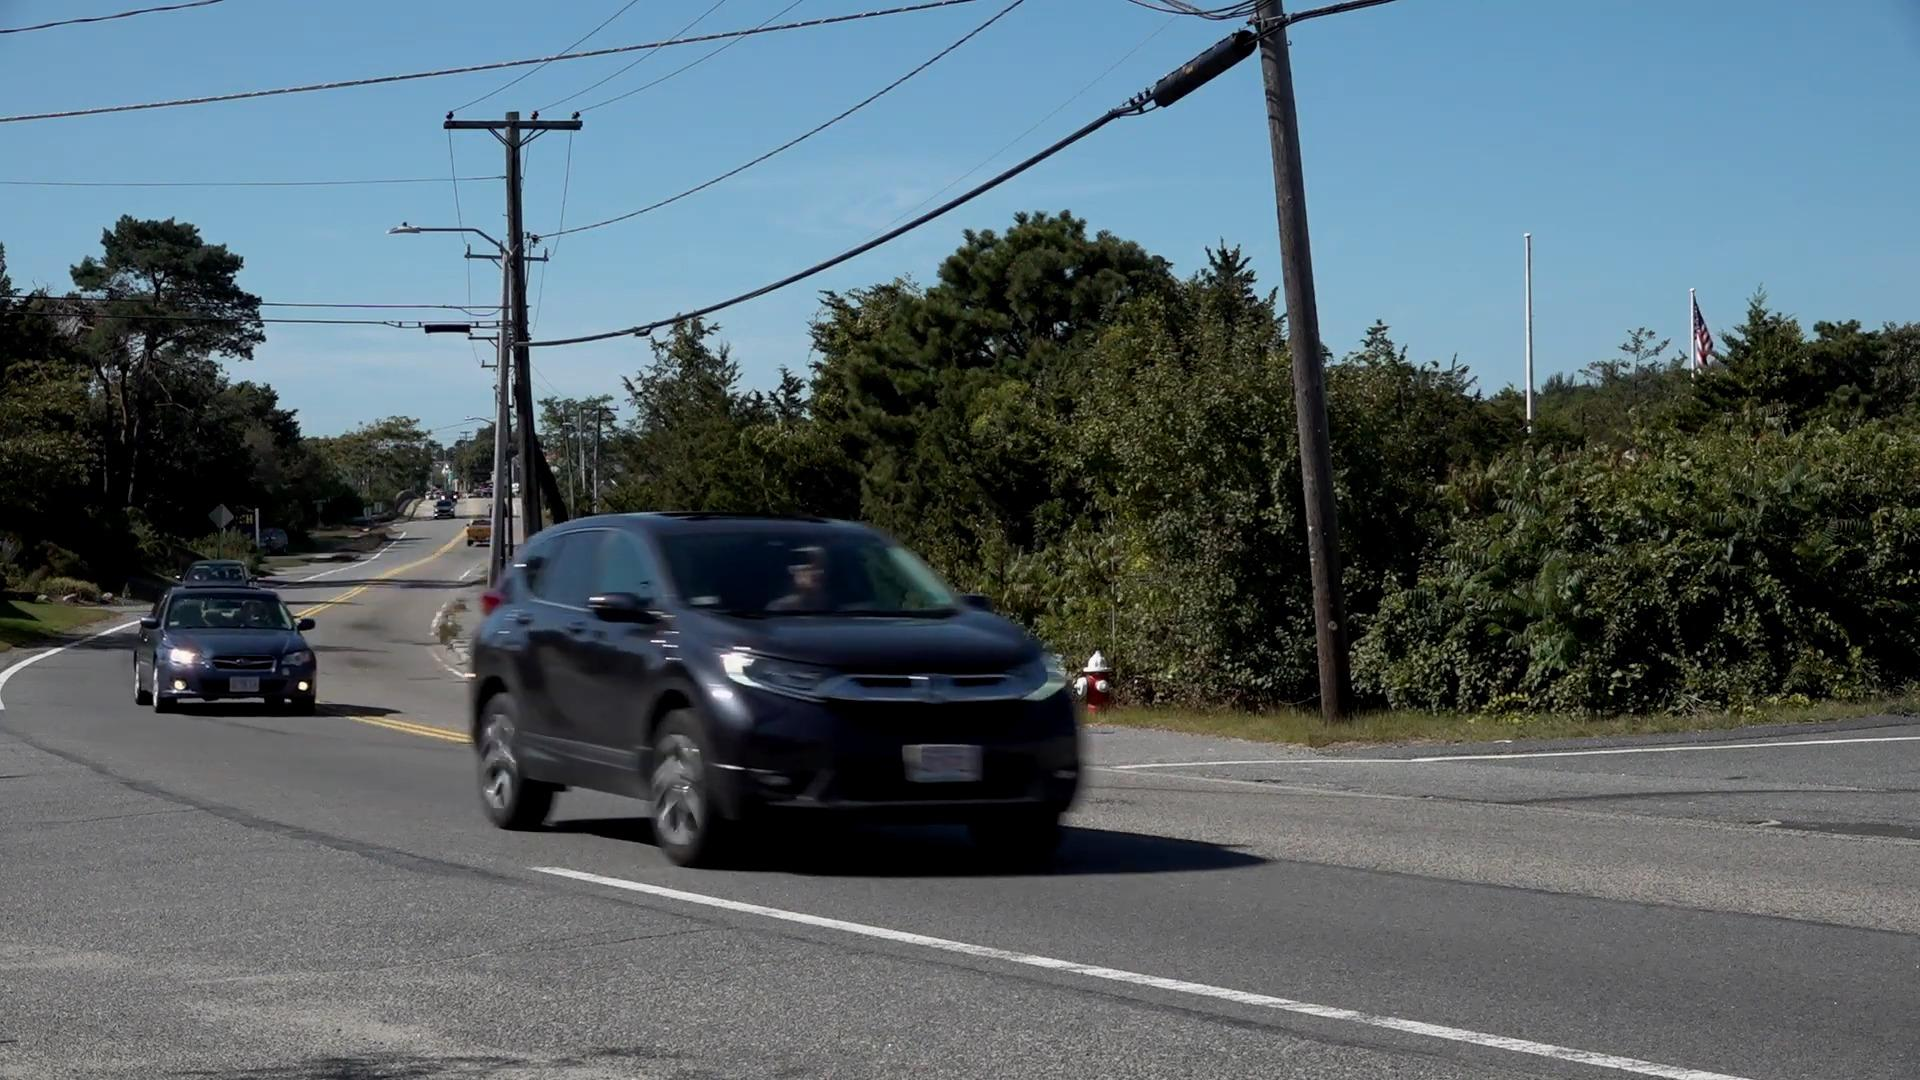sedans: (132, 585, 318, 716)
suv: (469, 508, 1081, 868)
